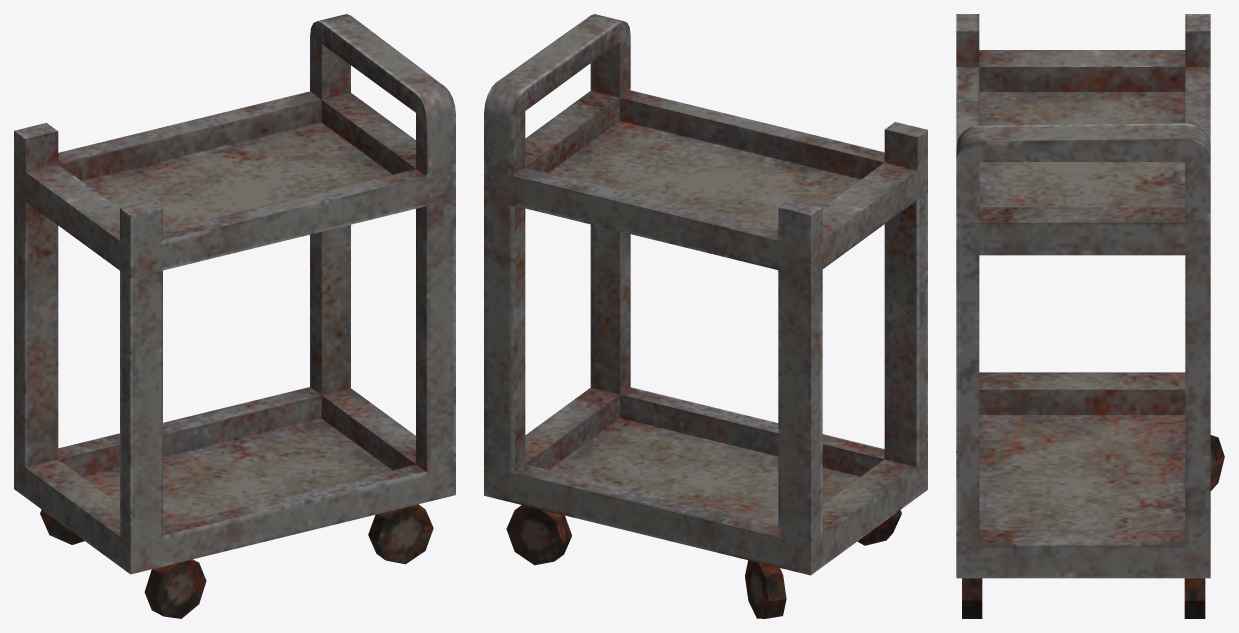
File: medical_cart.fbx
3 views of the same model, side by side, from view 1: azimuth 30°, elevation 25°; view 2: azimuth 150°, elevation 25°; view 3: azimuth 270°, elevation 25° (orthographic). The views are drawn at different scales.
Parts seen in each view (by area): view 1: medical_cart; view 2: medical_cart; view 3: medical_cart.
Part boxes in pixels (x1,y1,x2,y2): medical_cart: (14, 14, 455, 618); medical_cart: (484, 14, 927, 618); medical_cart: (956, 14, 1224, 618).
Size of the model in its own units: 73.61 by 99.92 by 48.27.
